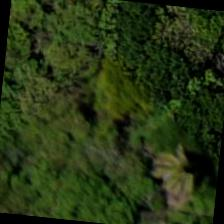Kelapa_Sawit: (122, 121, 222, 220)
